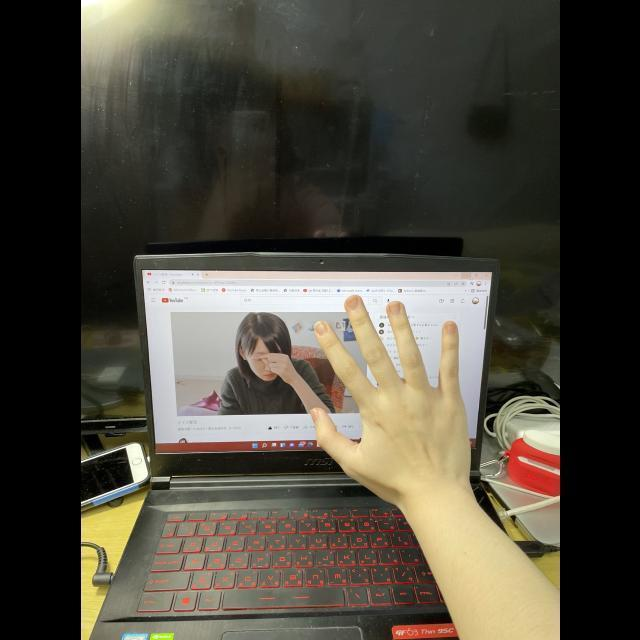bare_hand: (309, 293, 474, 495)
